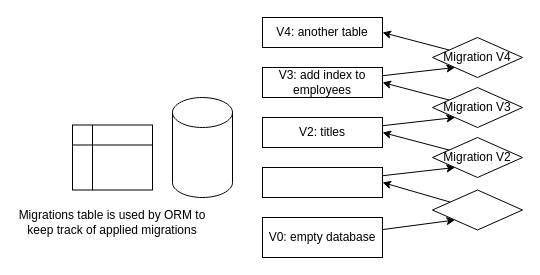
Image size: 540x275. Some labels were removed from this diagram. Each missing label, with the centre of its shape:
Migration V1: (477,209)
Migrations: (112,157)
V1: employees: (322,182)
